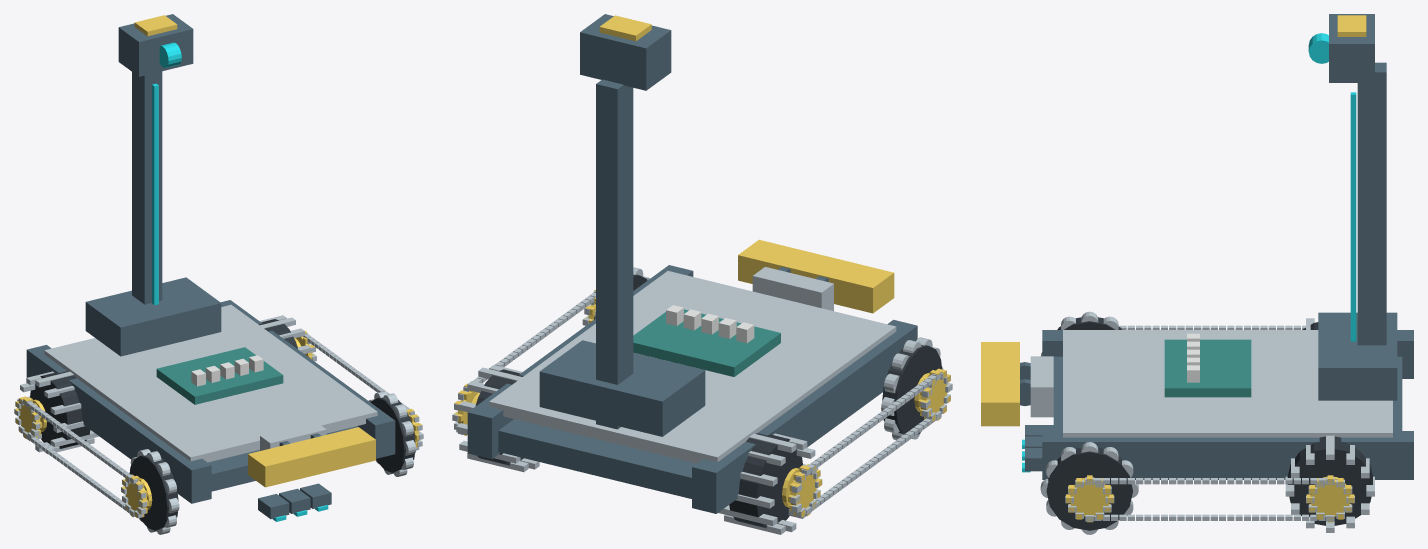
The model's file is mixed_omni_chain_DRAFT.glb.
3 views of the same model, side by side, from view 1: azimuth 30°, elevation 25°; view 2: azimuth 150°, elevation 25°; view 3: azimuth 270°, elevation 25° (orthographic). The views are drawn at different scales.
Visible parts, largest first — view 1: Chassis_Top, Battery_Low_Rear, Chassis_Rail_-1, Camera_Mast, Universal_AttachmentDock_Fixed, Controller_PCB, Camera_Housing, Wheel_Rear_-1, Chassis_Rail_1, Wheel_Front_-1, Camera_Mast_Cyan, Chassis_Lower (+7 smaller); view 2: Chassis_Top, Camera_Mast, Battery_Low_Rear, Chassis_Rail_-1, Chassis_Lower, Universal_AttachmentDock_Fixed, Controller_PCB, Camera_Housing, Wheel_Rear_-1, Chassis_Rail_1, Ultrasonic_Front, Wheel_Front_-1 (+2 smaller); view 3: Chassis_Top, Chassis_Rail_1, Camera_Mast, Battery_Low_Rear, Controller_PCB, Wheel_Front_1, Universal_AttachmentDock_Fixed, Wheel_Rear_1, Camera_Housing, Camera_Mast_Cyan, Ultrasonic_Front, Chassis_Lower (+5 smaller).
Part boxes in pixels (left/top/right/bottom): Chassis_Top: left=44, top=304, right=377, bottom=462; Battery_Low_Rear: left=85, top=277, right=221, bottom=356; Chassis_Rail_-1: left=26, top=345, right=211, bottom=503; Camera_Mast: left=132, top=71, right=162, bottom=304; Universal_AttachmentDock_Fixed: left=248, top=427, right=375, bottom=487; Controller_PCB: left=156, top=347, right=283, bottom=404; Camera_Housing: left=118, top=14, right=193, bottom=76; Wheel_Rear_-1: left=30, top=371, right=90, bottom=448; Chassis_Rail_1: left=221, top=300, right=395, bottom=458; Wheel_Front_-1: left=129, top=455, right=178, bottom=530; Camera_Mast_Cyan: left=152, top=83, right=158, bottom=305; Chassis_Lower: left=208, top=426, right=357, bottom=491; Chassis_Top: left=489, top=271, right=896, bottom=463; Camera_Mast: left=596, top=79, right=633, bottom=429; Battery_Low_Rear: left=539, top=340, right=705, bottom=436; Chassis_Rail_-1: left=692, top=319, right=917, bottom=513; Chassis_Lower: left=498, top=419, right=696, bottom=498; Universal_AttachmentDock_Fixed: left=738, top=239, right=894, bottom=313; Controller_PCB: left=633, top=309, right=780, bottom=376; Camera_Housing: left=580, top=14, right=671, bottom=90; Wheel_Rear_-1: left=729, top=433, right=802, bottom=528; Chassis_Rail_1: left=467, top=265, right=693, bottom=459; Ultrasonic_Front: left=752, top=267, right=833, bottom=311; Wheel_Front_-1: left=882, top=345, right=941, bottom=434; Chassis_Top: left=1063, top=330, right=1392, bottom=437; Chassis_Rail_1: left=1042, top=431, right=1413, bottom=479; Camera_Mast: left=1357, top=62, right=1386, bottom=345; Battery_Low_Rear: left=1318, top=312, right=1397, bottom=400; Controller_PCB: left=1164, top=339, right=1251, bottom=397; Wheel_Front_1: left=1046, top=447, right=1132, bottom=530; Universal_AttachmentDock_Fixed: left=981, top=342, right=1019, bottom=426; Wheel_Rear_1: left=1287, top=436, right=1372, bottom=525; Camera_Housing: left=1329, top=14, right=1374, bottom=82; Camera_Mast_Cyan: left=1350, top=92, right=1356, bottom=341; Ultrasonic_Front: left=1030, top=356, right=1053, bottom=417; Chassis_Lower: left=1053, top=356, right=1402, bottom=430.
Bounding box in the file's own units: 0.254 × 0.34 × 0.3005.
